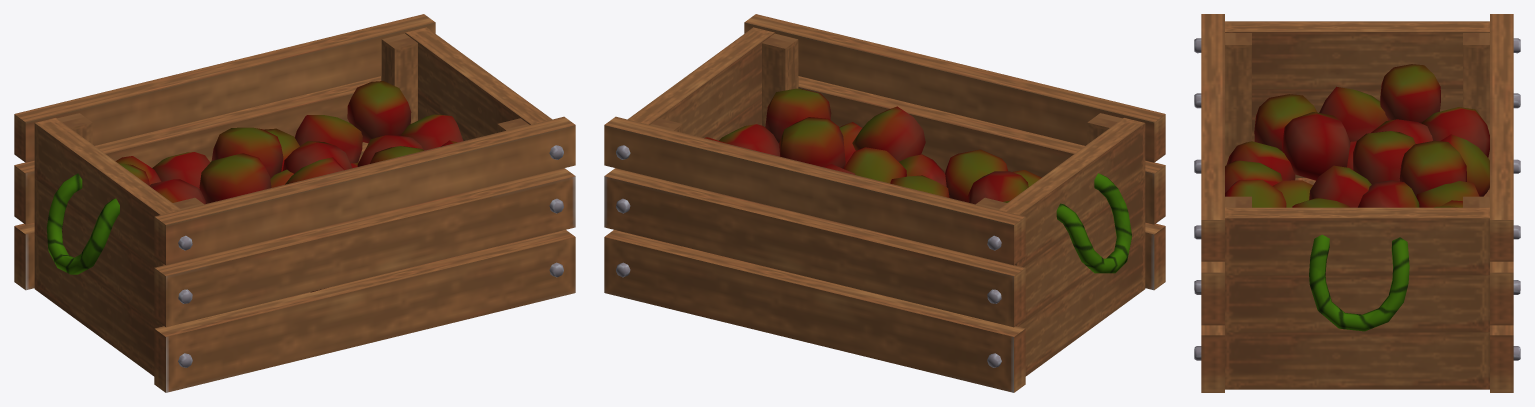
Rendered from farm_crate_apple.glb.
The picture shows the model from 3 angles, left to right: view 1: azimuth 30°, elevation 25°; view 2: azimuth 150°, elevation 25°; view 3: azimuth 270°, elevation 25°; orthographic projection. The views are drawn at different scales.
Visible parts, largest first — view 1: FarmCrate_Apple; view 2: FarmCrate_Apple; view 3: FarmCrate_Apple.
Boxes of the visible parts, box(x1,y1,x2,y2) form: FarmCrate_Apple: box(14, 14, 575, 392); FarmCrate_Apple: box(604, 14, 1165, 392); FarmCrate_Apple: box(1194, 14, 1520, 392).
Bounding box in the file's own units: 0.7138 × 0.2438 × 0.4142.
Materials: 3 (3 with a texture image).
